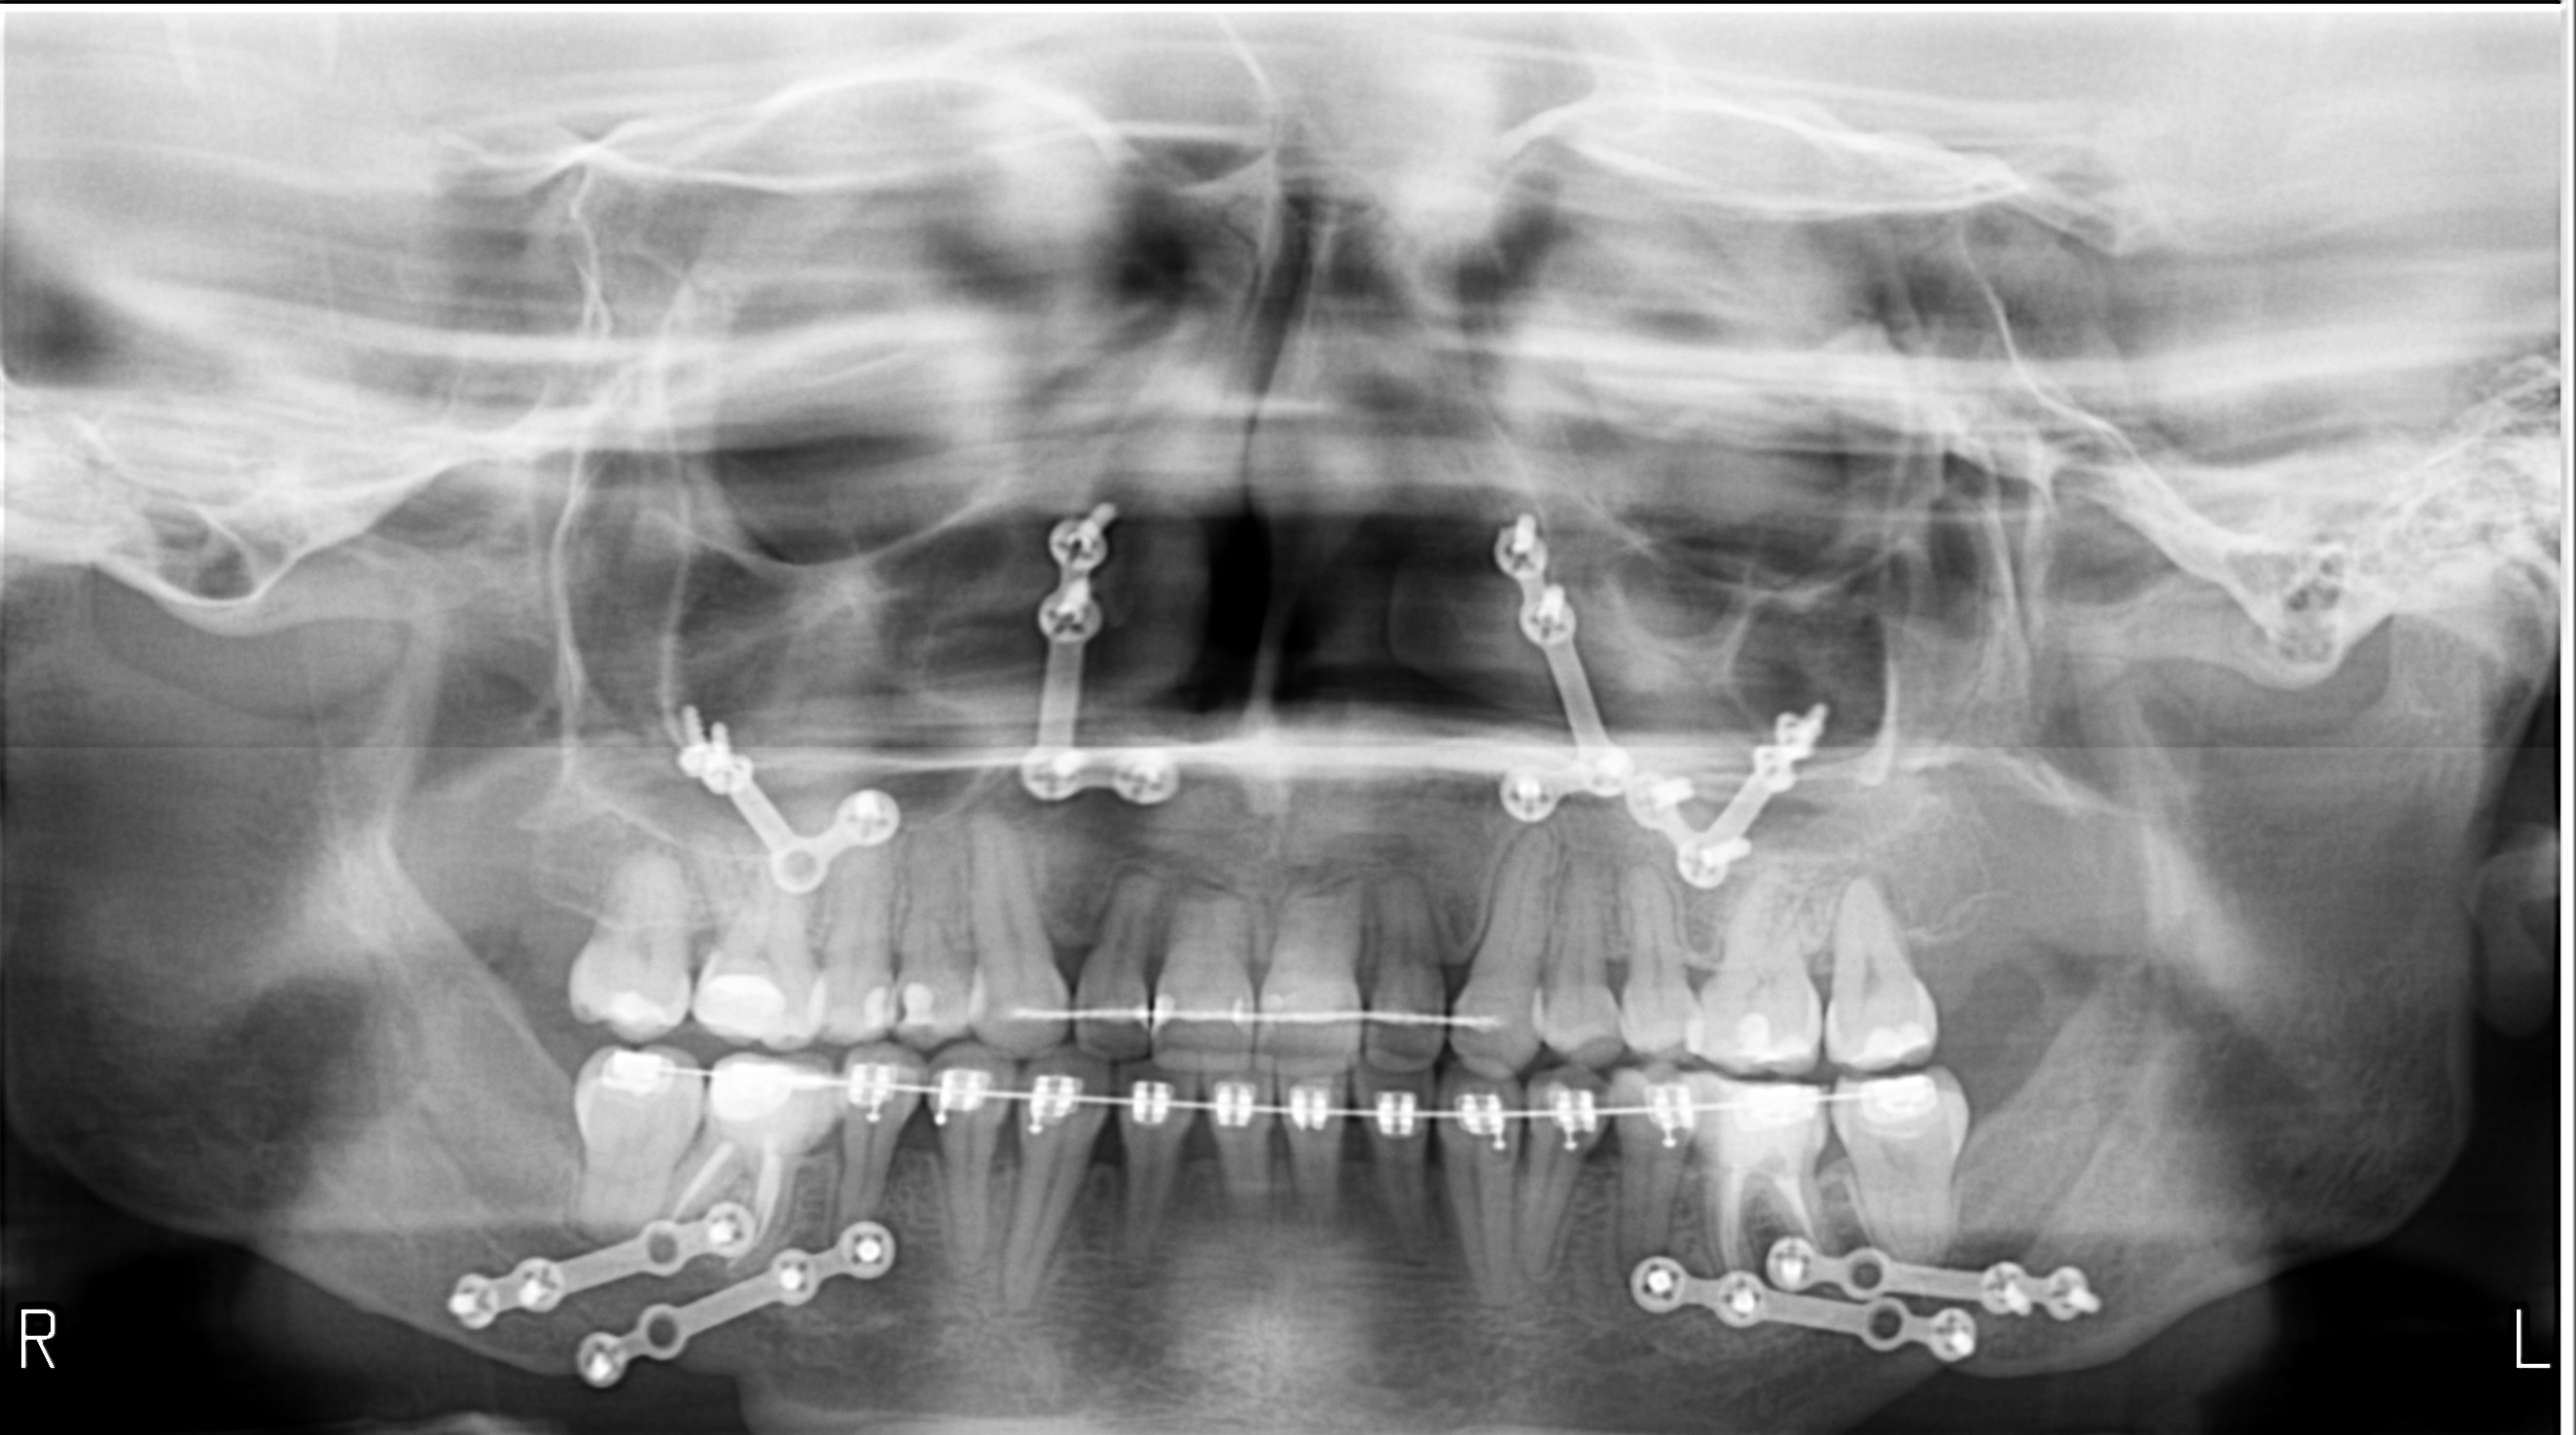END: (654, 1140, 813, 1265), (1694, 1173, 1836, 1278)
OBT: (677, 953, 811, 1048), (1714, 991, 1818, 1074), (1832, 1006, 1936, 1076), (885, 977, 949, 1046), (837, 983, 901, 1041)
ORD: (527, 1014, 1988, 1200), (991, 974, 1518, 1069)
SRD: (549, 1195, 938, 1421), (1567, 647, 1875, 914), (989, 468, 1210, 827), (1581, 1223, 2002, 1410), (1443, 488, 1650, 832), (412, 1158, 806, 1334), (643, 673, 933, 905), (1717, 1212, 2148, 1341)
